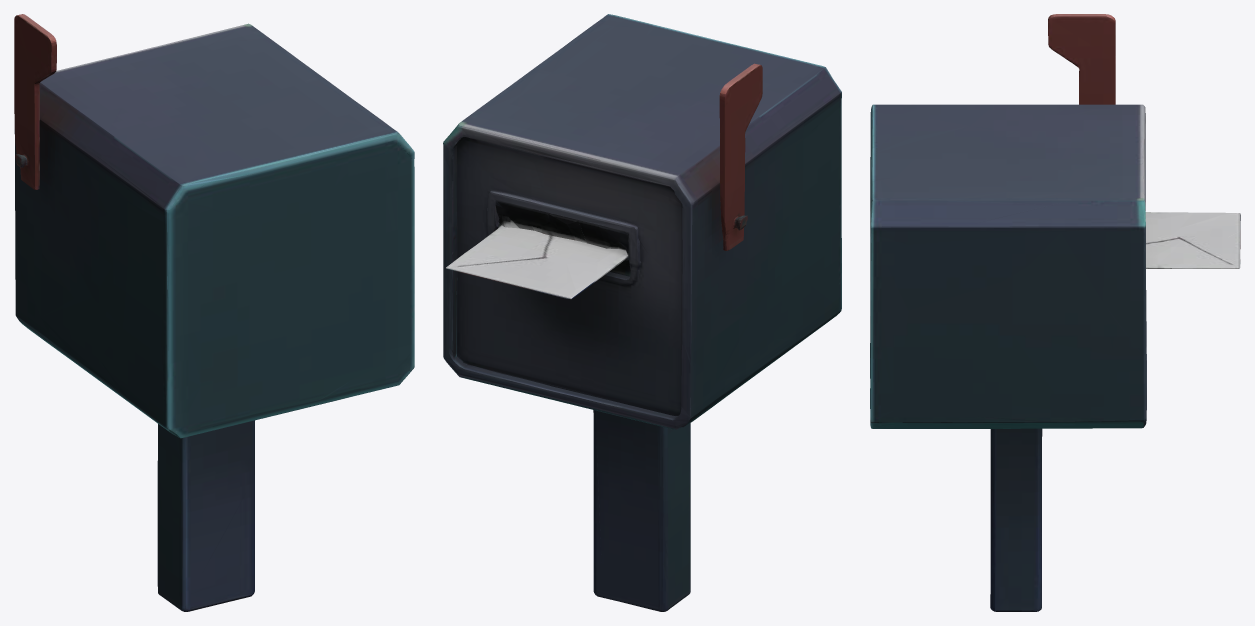
The model's file is carteiro.glb.
The picture shows the model from 3 angles, left to right: view 1: azimuth 30°, elevation 25°; view 2: azimuth 150°, elevation 25°; view 3: azimuth 270°, elevation 25°; orthographic projection. The views are drawn at different scales.
Size of the model in its own units: 0.4965 by 1 by 0.6441.
Materials: 1 (1 with a texture image).
